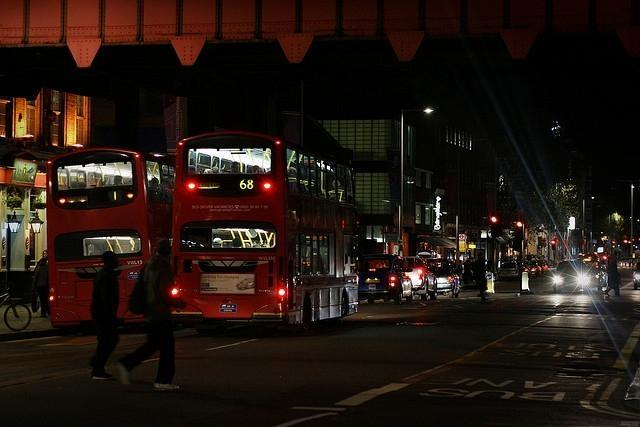bicycle: (0, 282, 32, 332)
bus: (160, 136, 358, 328), (46, 148, 178, 333)
car: (358, 255, 415, 305), (402, 256, 438, 301), (427, 258, 460, 297), (554, 260, 588, 294), (498, 262, 520, 281), (632, 261, 640, 289), (530, 260, 544, 276), (526, 261, 538, 278)
